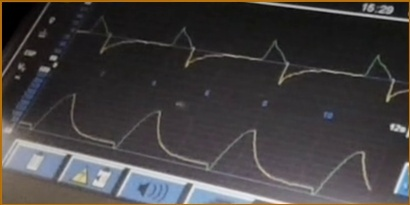Flow: (80, 13, 408, 102)
Leakage Volume: (23, 92, 372, 196)
